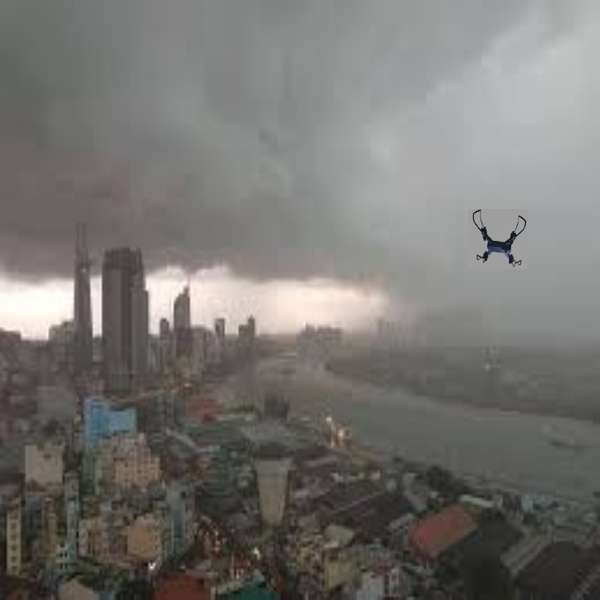drone: (468, 205, 530, 272)
